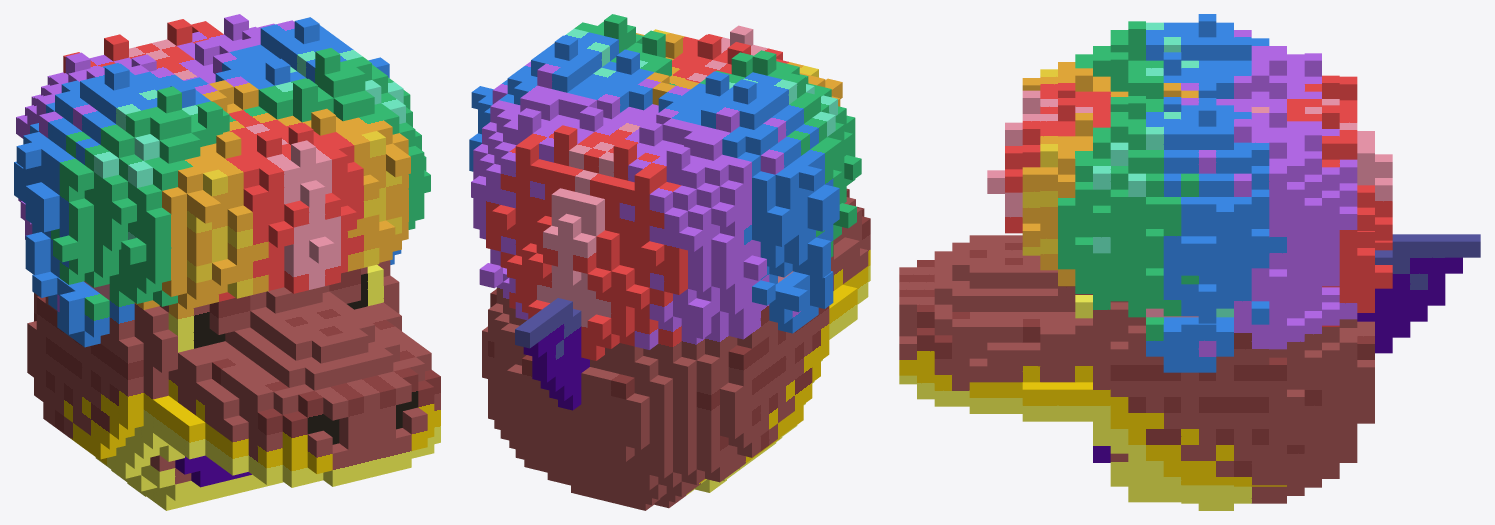
Rendered from clown wig_rainbow shades.gltf.
The picture shows the model from 3 angles, left to right: view 1: azimuth 30°, elevation 25°; view 2: azimuth 150°, elevation 25°; view 3: azimuth 270°, elevation 25°; orthographic projection. The views are drawn at different scales.
Parts seen in each view (by area): view 1: C07_H_ClownW_CoolD_3DG_RainbowShade-Mesh; view 2: C07_H_ClownW_CoolD_3DG_RainbowShade-Mesh; view 3: C07_H_ClownW_CoolD_3DG_RainbowShade-Mesh.
Part boxes in pixels (x1,y1,x2,y2): C07_H_ClownW_CoolD_3DG_RainbowShade-Mesh: (14, 14, 440, 510); C07_H_ClownW_CoolD_3DG_RainbowShade-Mesh: (469, 14, 870, 510); C07_H_ClownW_CoolD_3DG_RainbowShade-Mesh: (899, 14, 1480, 510).
Size of the model in its own units: 23 by 26 by 33.
1 material, 1 textured.
